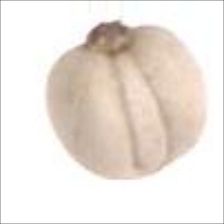L5: (109, 46, 170, 172), (80, 16, 145, 61)
L6: (43, 23, 210, 187)
